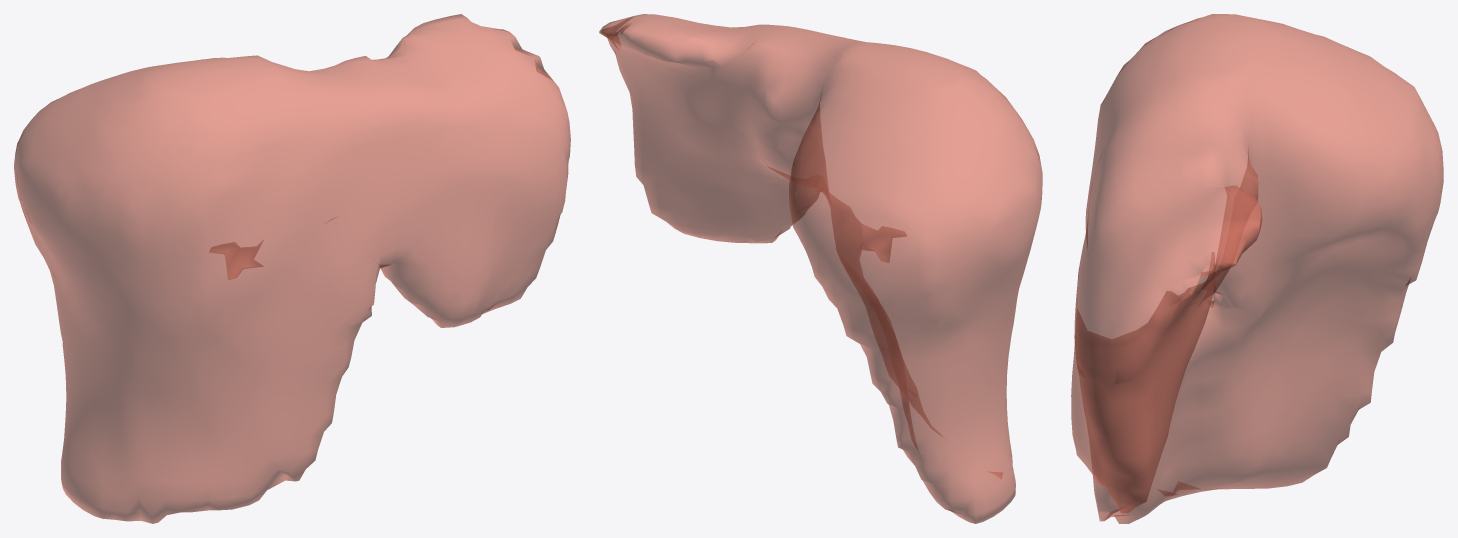
The model's file is Liver.glb.
The picture shows the model from 3 angles, left to right: view 1: azimuth 30°, elevation 25°; view 2: azimuth 150°, elevation 25°; view 3: azimuth 270°, elevation 25°; orthographic projection. The views are drawn at different scales.
Visible parts, largest first — view 1: CTAP_liverA; view 2: CTAP_liverA; view 3: CTAP_liverA.
Boxes of the visible parts, x1=… form: CTAP_liverA: x1=14, y1=14, x2=570, y2=523; CTAP_liverA: x1=599, y1=14, x2=1042, y2=523; CTAP_liverA: x1=1071, y1=14, x2=1443, y2=523.
Bounding box in the file's own units: 209 × 181 × 121.
